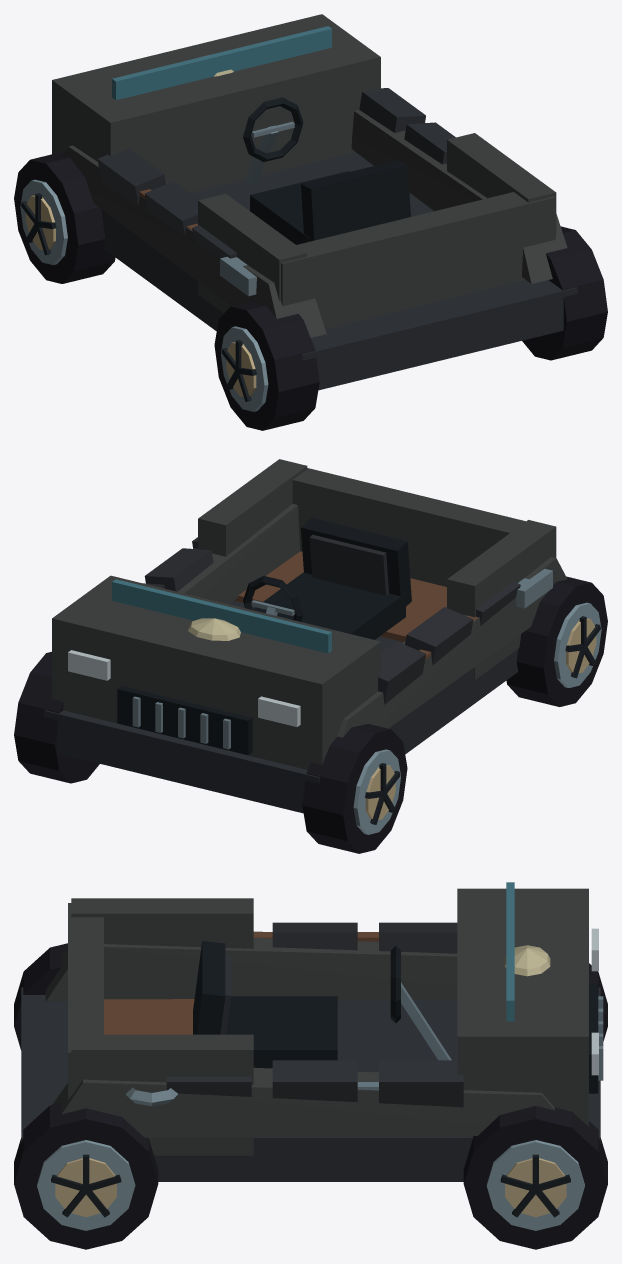
The model's file is kart.glb.
3 views of the same model, one above another, from view 1: azimuth 30°, elevation 25°; view 2: azimuth 150°, elevation 25°; view 3: azimuth 270°, elevation 25° (orthographic). The views are drawn at different scales.
Parts seen in each view (by area): view 1: identity-truck-truck-utility-body, identity-truck-driver-cockpit, wheel-rear-left, wheel-front-left, identity-truck-motif-armor, wheel-rear-right, identity-truck-motif-tools; view 2: identity-truck-truck-utility-body, identity-truck-driver-cockpit, wheel-front-left, wheel-rear-left, identity-truck-motif-armor, wheel-front-right, identity-truck-motif-tools, identity-truck-motif-skull; view 3: identity-truck-truck-utility-body, wheel-front-right, wheel-rear-right, identity-truck-motif-armor, identity-truck-driver-cockpit, wheel-rear-left, identity-truck-motif-tools, identity-truck-motif-skull.
Part boxes in pixels (<box>): identity-truck-truck-utility-body: <box>52,14,577,390</box>; identity-truck-driver-cockpit: <box>243,97,410,244</box>; wheel-rear-left: <box>214,301,319,430</box>; wheel-front-left: <box>14,152,115,283</box>; identity-truck-motif-armor: <box>97,88,455,258</box>; wheel-rear-right: <box>522,226,607,360</box>; identity-truck-motif-tools: <box>139,189,256,296</box>; identity-truck-truck-utility-body: <box>44,459,567,813</box>; identity-truck-driver-cockpit: <box>243,517,411,639</box>; wheel-front-left: <box>302,724,407,853</box>; wheel-rear-left: <box>506,576,607,706</box>; identity-truck-motif-armor: <box>143,537,520,704</box>; wheel-front-right: <box>14,651,99,783</box>; identity-truck-motif-tools: <box>419,568,552,659</box>; identity-truck-motif-skull: <box>188,618,240,640</box>; identity-truck-truck-utility-body: <box>21,882,603,1181</box>; wheel-front-right: <box>463,1106,607,1249</box>; wheel-rear-right: <box>14,1102,158,1249</box>; identity-truck-motif-armor: <box>166,922,463,1107</box>; identity-truck-driver-cockpit: <box>193,941,451,1068</box>; wheel-rear-left: <box>14,943,67,1050</box>; identity-truck-motif-tools: <box>125,932,378,1106</box>; identity-truck-motif-skull: <box>504,945,550,976</box>.
Bounding box in the file's own units: 2.13 × 1.13 × 2.8.
